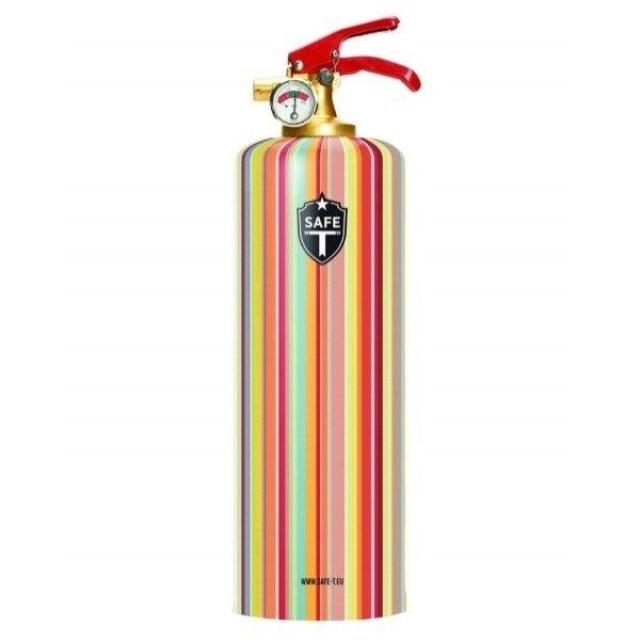fire_extinguisher: (228, 13, 425, 624)
